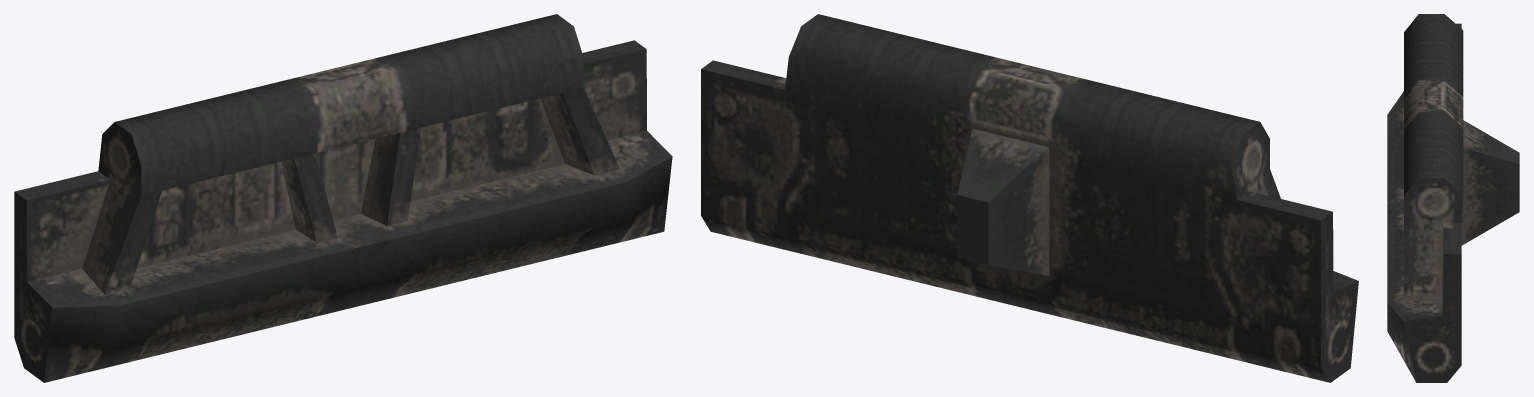
The picture shows the model from 3 angles, left to right: view 1: azimuth 30°, elevation 25°; view 2: azimuth 150°, elevation 25°; view 3: azimuth 270°, elevation 25°; orthographic projection. The views are drawn at different scales.
Visible parts, largest first — view 1: set_0_group_0; view 2: set_0_group_0; view 3: set_0_group_0.
Boxes of the visible parts, <box> form: set_0_group_0: <box>14,14,672,382</box>; set_0_group_0: <box>701,14,1358,382</box>; set_0_group_0: <box>1387,14,1519,382</box>.
Size of the model in its own units: 0.698 by 0.2429 by 0.17.
1 material, 1 textured.
